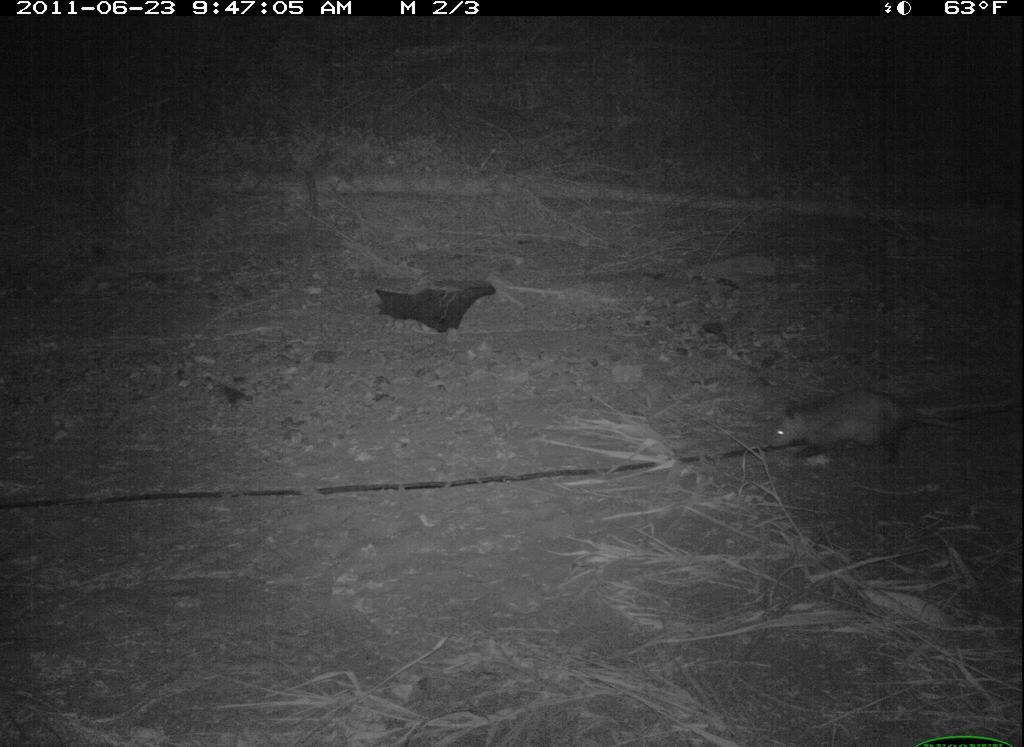opossum: (763, 381, 923, 474)
